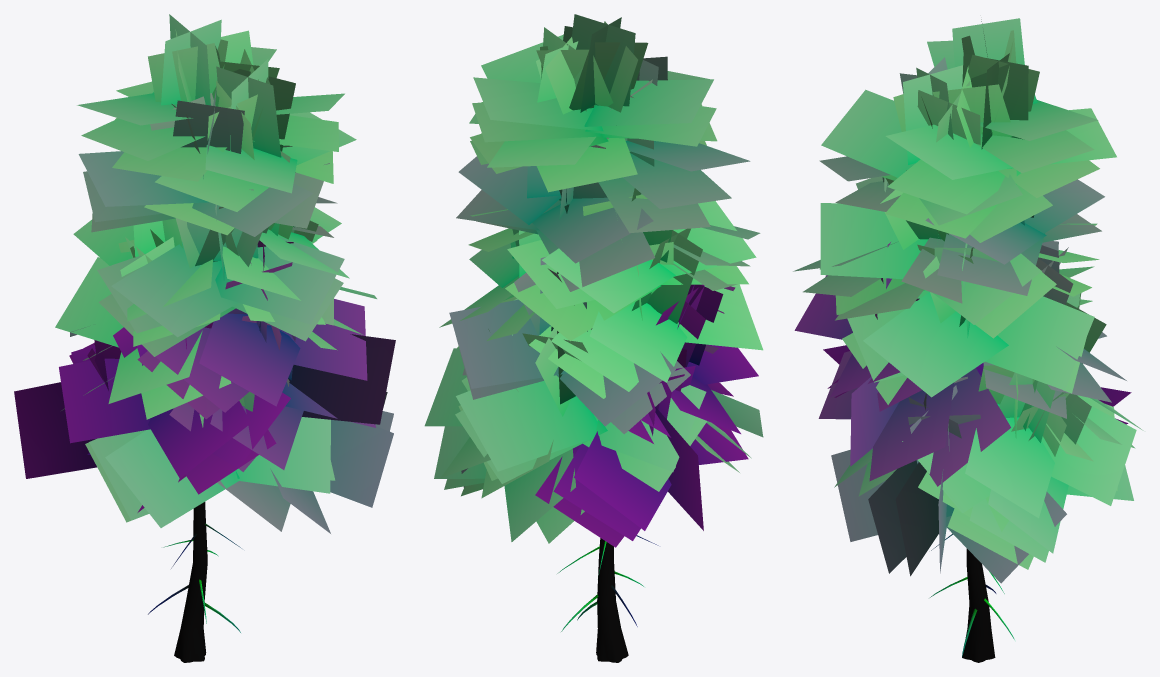
File: Tree_2_1.fbx
3 views of the same model, side by side, from view 1: azimuth 30°, elevation 25°; view 2: azimuth 150°, elevation 25°; view 3: azimuth 270°, elevation 25° (orthographic).
Parts seen in each view (by area): view 1: _1; view 2: _1; view 3: _1.
Part boxes in pixels (<box>): _1: <box>14,14,395,662</box>; _1: <box>424,14,763,662</box>; _1: <box>793,18,1143,662</box>.
Bounding box in the file's own units: 887 × 1729 × 869.
